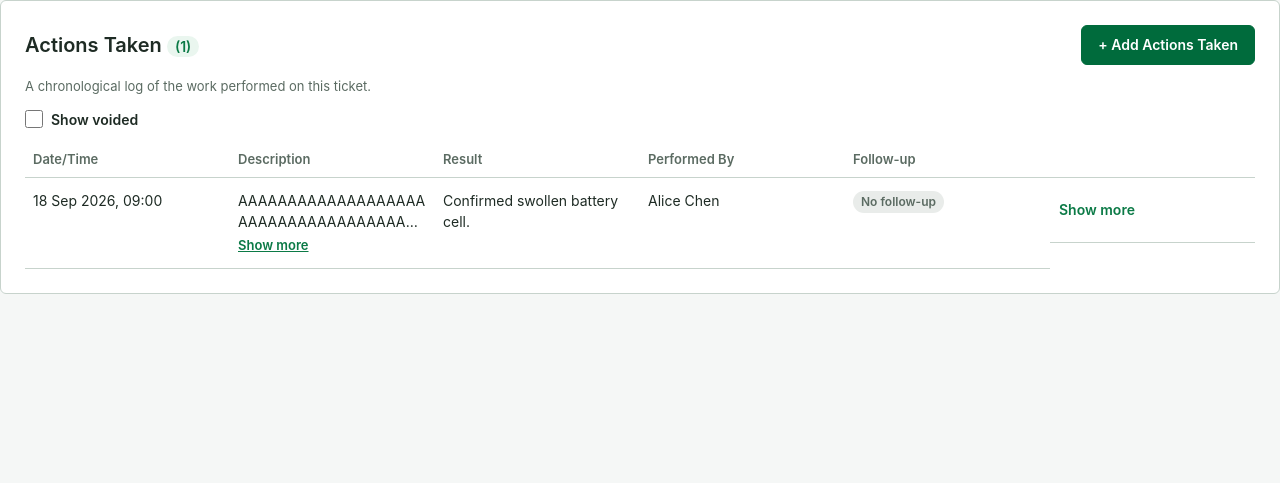
Test: Actions Taken — view mode (ui-spec §4.2) › uses 'Show more' / 'Show less' for both description and row-details expansion with distinct accessible names
The width and height of the screenshot is (1280, 483).
Expected: the button with test id "expand-action-act-long" reads "Show more", [1058,190,1136,230]
Click the button with test id "show-more-act-long" at (273, 246), box [238,236,308,256]
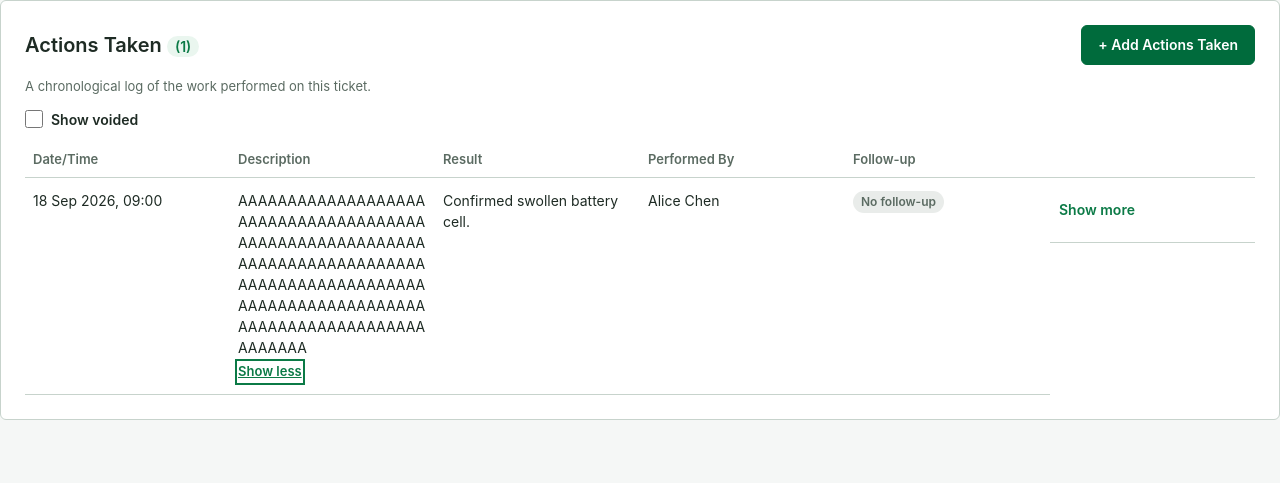
Result: the button with test id "show-more-act-long" reads "Show less" at [238,362,302,382]
Click the button with test id "expand-action-act-long" at (1097, 210), box [1058,190,1136,230]
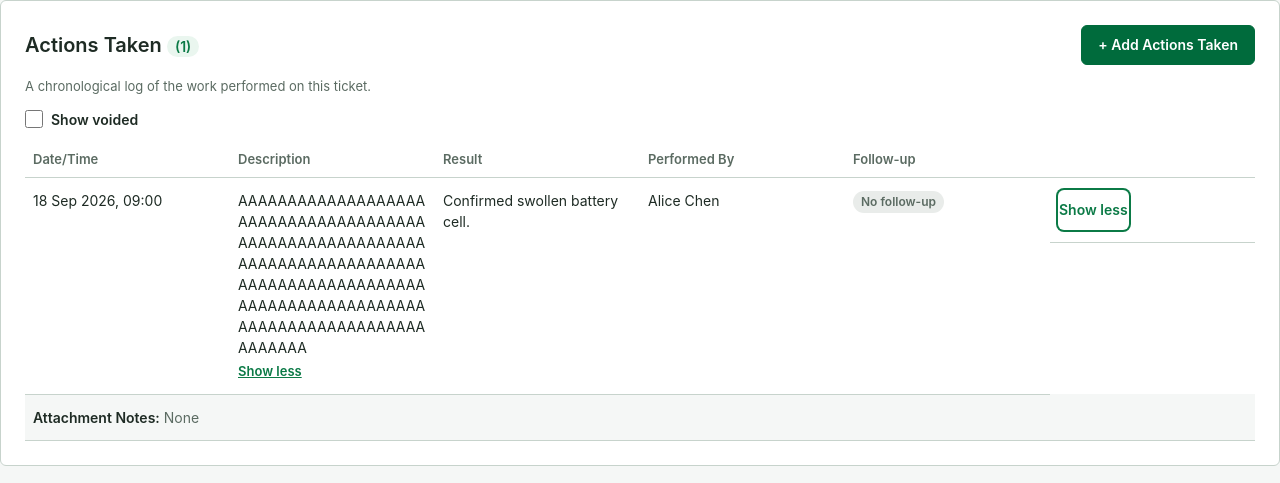
Result: the button with test id "expand-action-act-long" reads "Show less" at [1058,190,1129,230]
